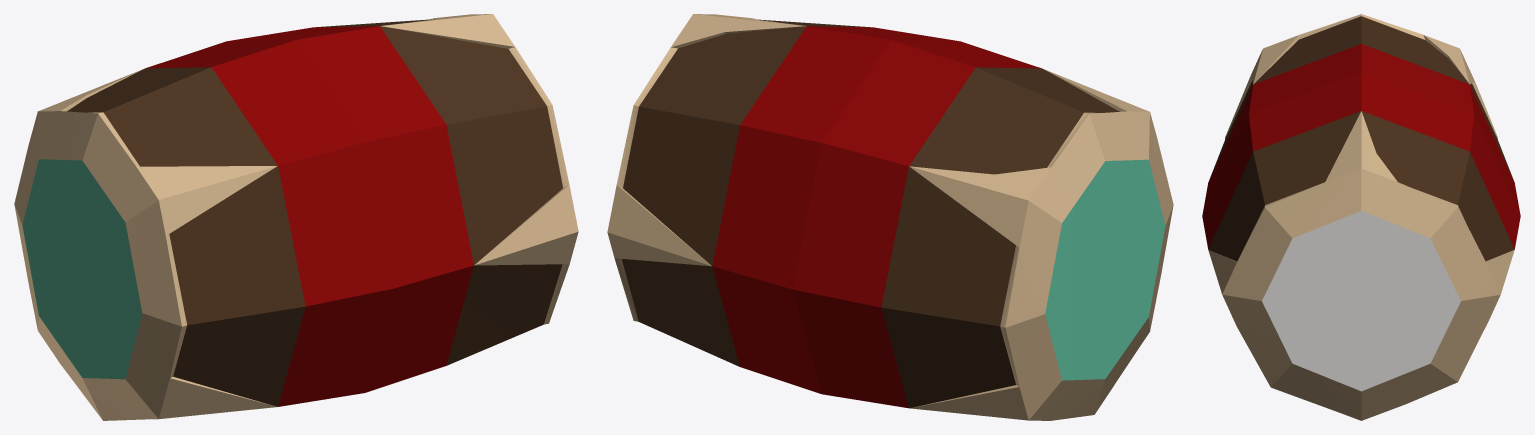
The model's file is Tribal_Plains_Drum_Decoration_Prop_02.fbx.
The picture shows the model from 3 angles, left to right: view 1: azimuth 30°, elevation 25°; view 2: azimuth 150°, elevation 25°; view 3: azimuth 270°, elevation 25°; orthographic projection. The views are drawn at different scales.
Parts seen in each view (by area): view 1: Tribal_Plains_Drum_Decoration_Prop_02; view 2: Tribal_Plains_Drum_Decoration_Prop_02; view 3: Tribal_Plains_Drum_Decoration_Prop_02.
Boxes of the visible parts, x1,y1,x2,y2 form: Tribal_Plains_Drum_Decoration_Prop_02: (14,14,578,420); Tribal_Plains_Drum_Decoration_Prop_02: (607,14,1173,420); Tribal_Plains_Drum_Decoration_Prop_02: (1202,14,1520,420).
Size of the model in its own units: 1.25 by 0.992 by 0.992.
